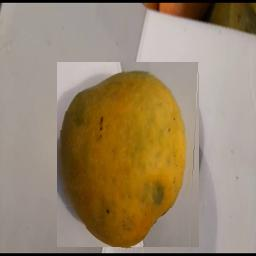Mango Fresh: (58, 62, 200, 247)
